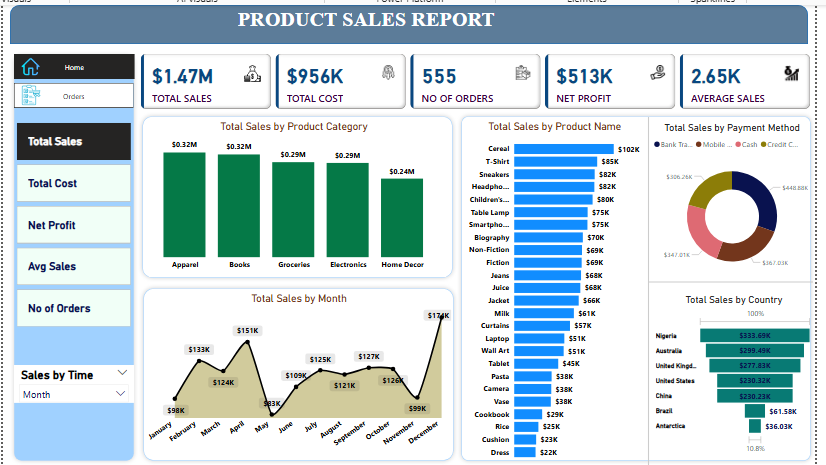

This screenshot's page, from the dashboard's own definition file:
{"tool":"powerbi","page":{"name":"Home","canvas":[1500,850],"ordinal":0},"visuals":[{"type":"cardVisual","fields":{"Data":["Dax Calculation.Total Sales","Dax Calculation.Total Cost","Dax Calculation.No of Orders","Dax Calculation.Net Profit","Dax Calculation.Avg Sales"]},"box":[249.5,85,1251,112.7],"z":0},{"type":"shape","box":[12.9,0,1474.6,72.1],"z":1000},{"type":"shape","box":[249.5,197.7,589.5,314.1],"z":2000},{"type":"shape","box":[251.3,515.5,589.5,334.5],"z":3000},{"type":"shape","box":[838.9,197.7,661.5,652.3],"z":4000},{"type":"columnChart","fields":{"Y":["Dax Calculation.Total Sales"],"Category":["Retail Store Sales.Product Category"]},"box":[251.3,212.5,572.8,284.6],"z":5000},{"type":"shape","box":[12.9,85,236.5,765],"z":6000},{"type":"advancedSlicerVisual","fields":{"Values":["Metrics.Metrics"]},"box":[20.3,212.5,221,391],"z":7000},{"type":"slicer","fields":{"Values":["Sales by Time.Sales by Time"]},"box":[20.3,665.2,222,70],"z":8000},{"type":"lineChart","fields":{"Category":["DateTable.Month"],"Y":["Dax Calculation.Total Sales"]},"box":[260.5,530.3,572.8,305],"z":9000},{"type":"barChart","fields":{"Y":["Dax Calculation.Total Sales"],"Category":["Retail Store Sales.Product Name"]},"box":[844.5,212.5,350,637.5],"z":10000},{"type":"donutChart","fields":{"Category":["Retail Store Sales.Payment Method"],"Y":["Dax Calculation.Total Sales"]},"box":[1197.4,216.2,299.3,299.3],"z":11000},{"type":"funnel","fields":{"Y":["Dax Calculation.Total Sales"],"Category":["Retail Store Sales.Country"]},"box":[1200.6,534,299.3,299.3],"z":12000},{"type":"shape","box":[1193.7,493.4,303,37],"z":13000},{"type":"shape","box":[1177.1,207,31.4,644],"z":14000},{"type":"pageNavigator","box":[20.3,90.5,223.6,46],"z":15000},{"type":"pageNavigator","box":[20.3,144.1,221.7,46.2],"z":16000},{"type":"textbox","box":[428.7,0,578.4,68.4],"z":17000},{"type":"image","box":[29.6,90.5,42.5,46.2],"z":18000},{"type":"image","box":[22.2,142.3,59.1,48],"z":19000},{"type":"slicer","fields":{"Values":["DateTable.Qtr"]},"box":[981.2,0,170,68.4],"z":19001}]}

Visuals, with their boxes on the page's 1500x850 design canvas (x1, y1, x2, y2). These are canvas units, not pixel positions in the 826x465 screenshot, which may show the page scaled, cropped or inside an application window:
cardVisual - Dax Calculation.Total Sales x Dax Calculation.Total Cost: rect(250, 85, 1500, 198)
shape: rect(13, 0, 1488, 72)
shape: rect(250, 198, 839, 512)
shape: rect(251, 516, 841, 850)
shape: rect(839, 198, 1500, 850)
columnChart - Dax Calculation.Total Sales x Retail Store Sales.Product Category: rect(251, 212, 824, 497)
shape: rect(13, 85, 249, 850)
advancedSlicerVisual - Metrics.Metrics: rect(20, 212, 241, 604)
slicer - Sales by Time.Sales by Time: rect(20, 665, 242, 735)
lineChart - DateTable.Month x Dax Calculation.Total Sales: rect(260, 530, 833, 835)
barChart - Dax Calculation.Total Sales x Retail Store Sales.Product Name: rect(844, 212, 1194, 850)
donutChart - Retail Store Sales.Payment Method x Dax Calculation.Total Sales: rect(1197, 216, 1497, 516)
funnel - Dax Calculation.Total Sales x Retail Store Sales.Country: rect(1201, 534, 1500, 833)
shape: rect(1194, 493, 1497, 530)
shape: rect(1177, 207, 1208, 851)
pageNavigator: rect(20, 90, 244, 136)
pageNavigator: rect(20, 144, 242, 190)
textbox: rect(429, 0, 1007, 68)
image: rect(30, 90, 72, 137)
image: rect(22, 142, 81, 190)
slicer - DateTable.Qtr: rect(981, 0, 1151, 68)
